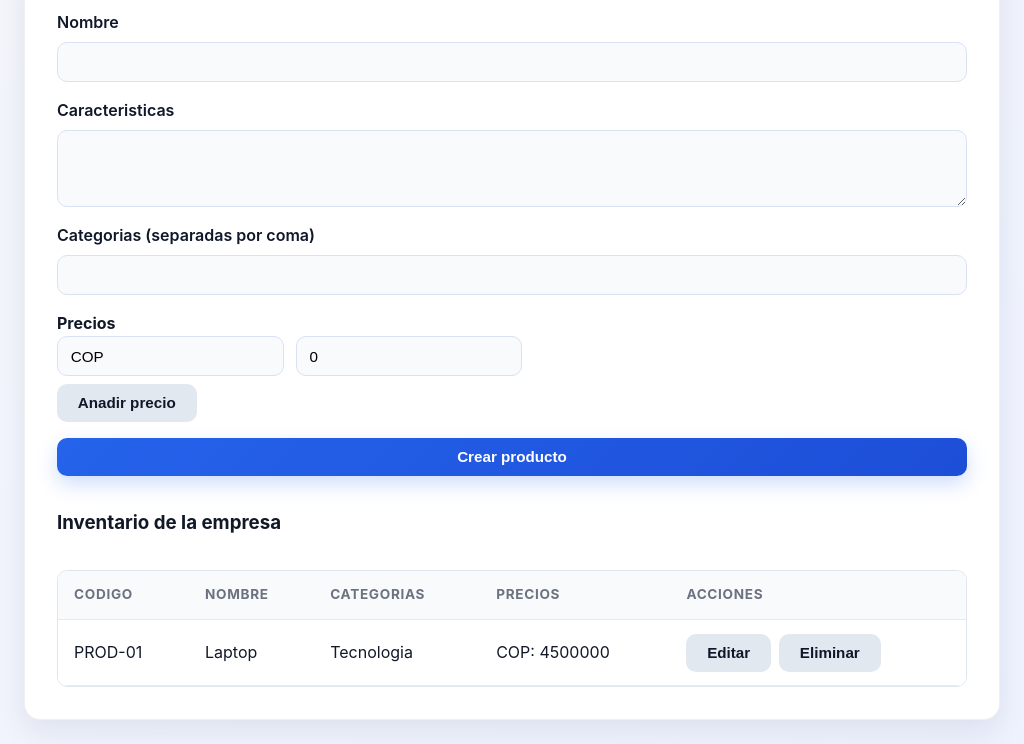
it: ProductosPage › permite eliminar un producto existente
(page scrolled)
Click the button "Eliminar" at (830, 653), box [779,634,880,672]
(page scrolled)
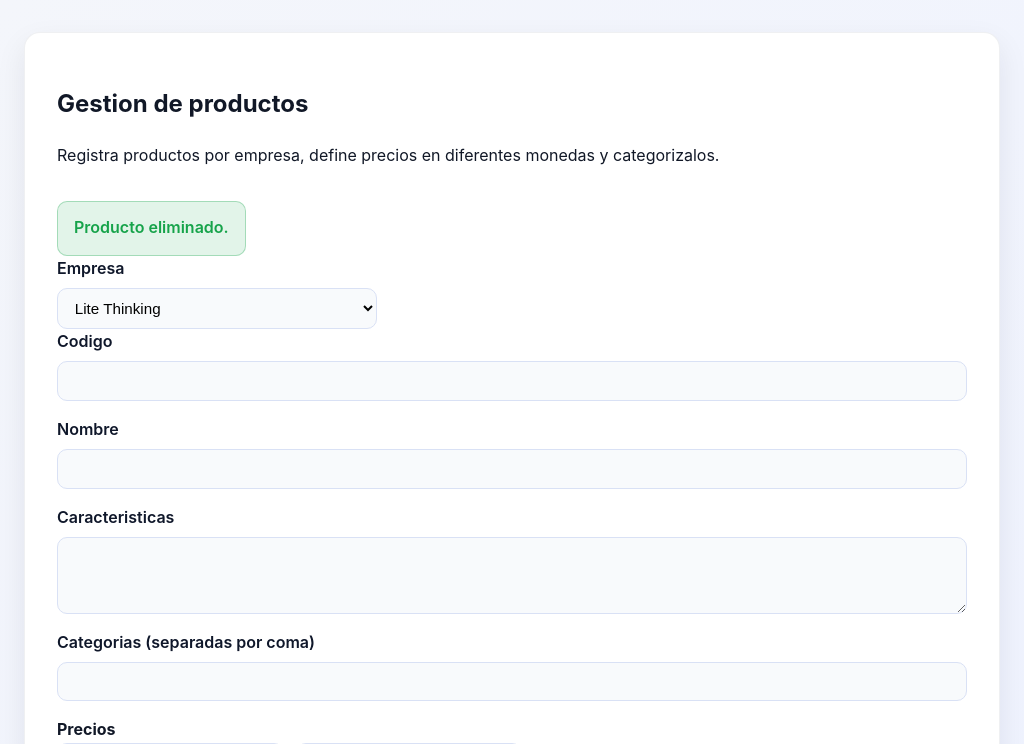
Check: the text "Producto eliminado." is shown, box [57,201,246,256]
